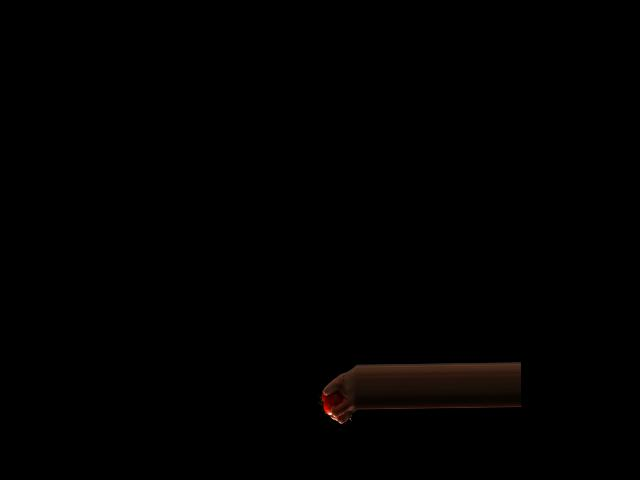tomato: (321, 390, 343, 415)
